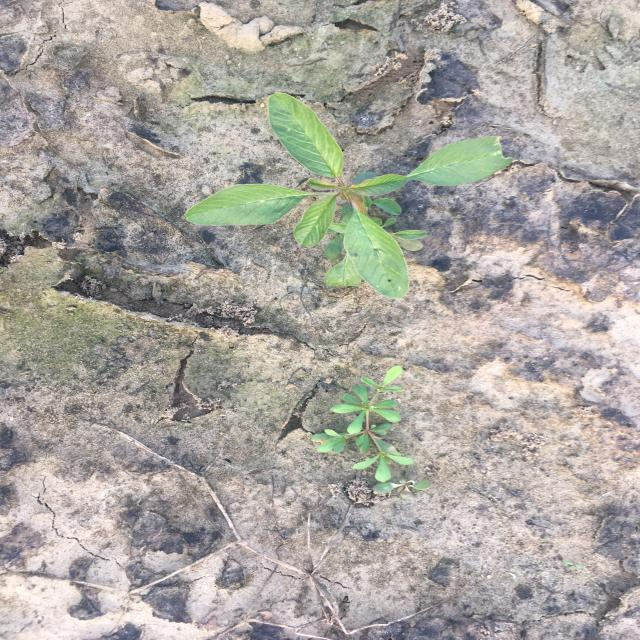Carpetweed: (309, 364, 435, 499)
Waterhemp: (181, 90, 517, 302)
